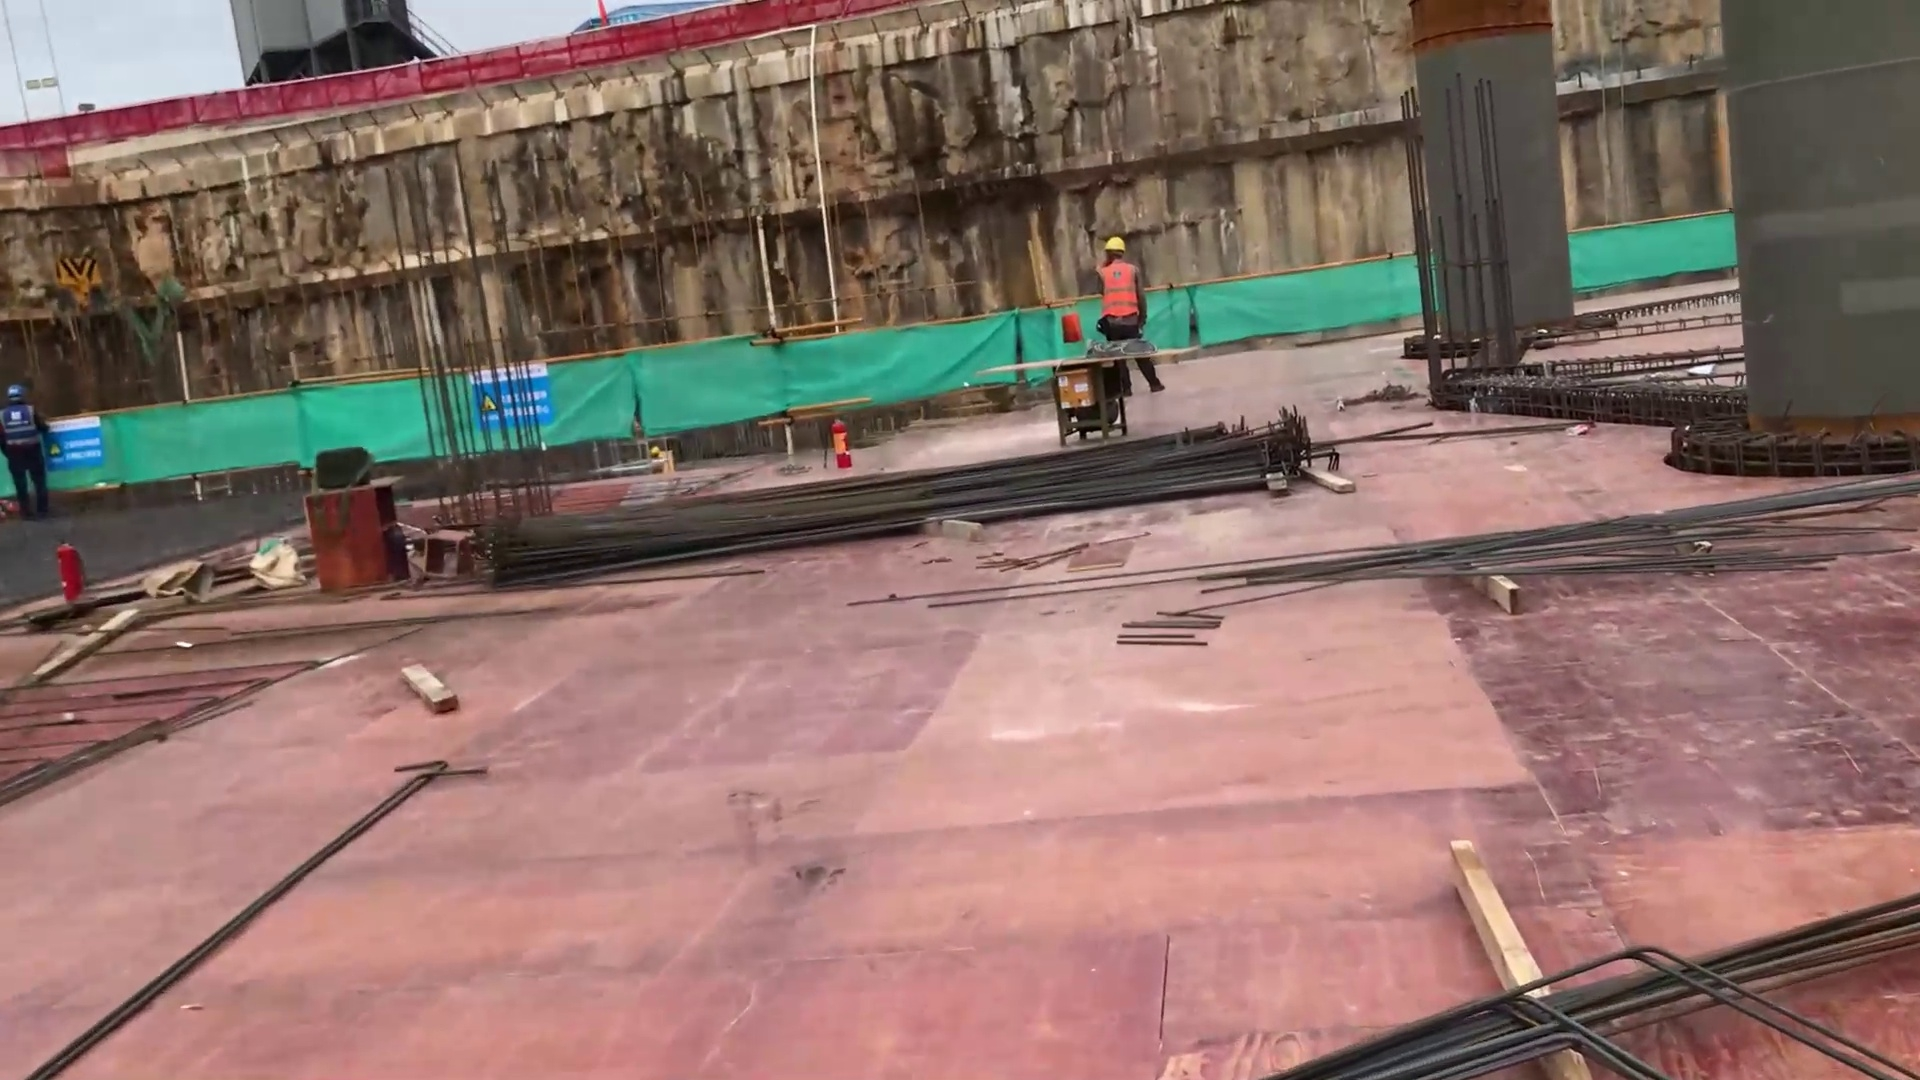cutter: (976, 343, 1196, 445)
fence: (10, 1, 888, 150)
helmet: (1103, 235, 1127, 258), (3, 383, 25, 404)
hook: (465, 359, 555, 432), (48, 250, 114, 322), (43, 415, 103, 468)
person: (1093, 234, 1170, 397), (1, 382, 52, 525)
rebar: (490, 406, 1313, 587)
vest: (1096, 259, 1141, 321), (1, 401, 42, 453)
